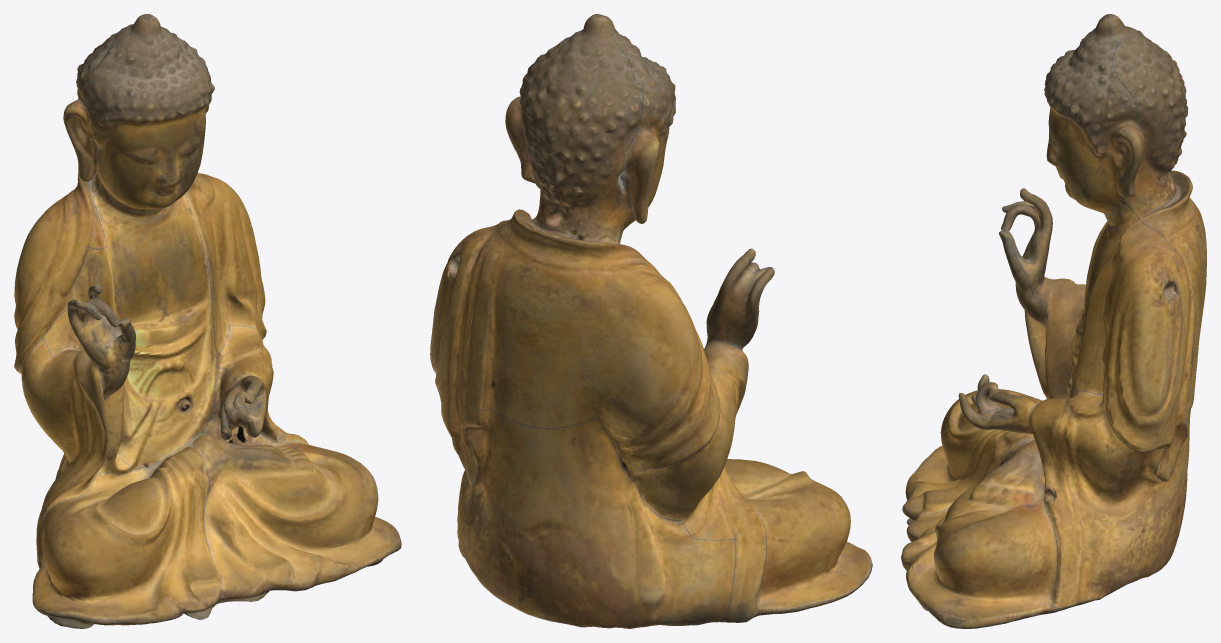
File: buddha-6d79c0ae06e4.glb
3 views of the same model, side by side, from view 1: azimuth 30°, elevation 25°; view 2: azimuth 150°, elevation 25°; view 3: azimuth 270°, elevation 25° (orthographic). The views are drawn at different scales.
Visible parts, largest first — view 1: NMK_Goryeo_Amitabha_duk002116_002; view 2: NMK_Goryeo_Amitabha_duk002116_002; view 3: NMK_Goryeo_Amitabha_duk002116_002.
Part boxes in pixels (left/top/right/bottom): NMK_Goryeo_Amitabha_duk002116_002: left=14, top=14, right=401, bottom=628; NMK_Goryeo_Amitabha_duk002116_002: left=430, top=14, right=872, bottom=628; NMK_Goryeo_Amitabha_duk002116_002: left=901, top=14, right=1206, bottom=628.
Size of the model in its own units: 0.7043 by 1 by 0.5238.
Materials: 1 (1 with a texture image).
